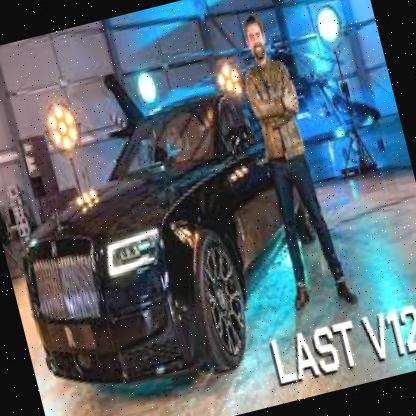car: (0, 72, 335, 416)
person: (223, 4, 367, 330)
